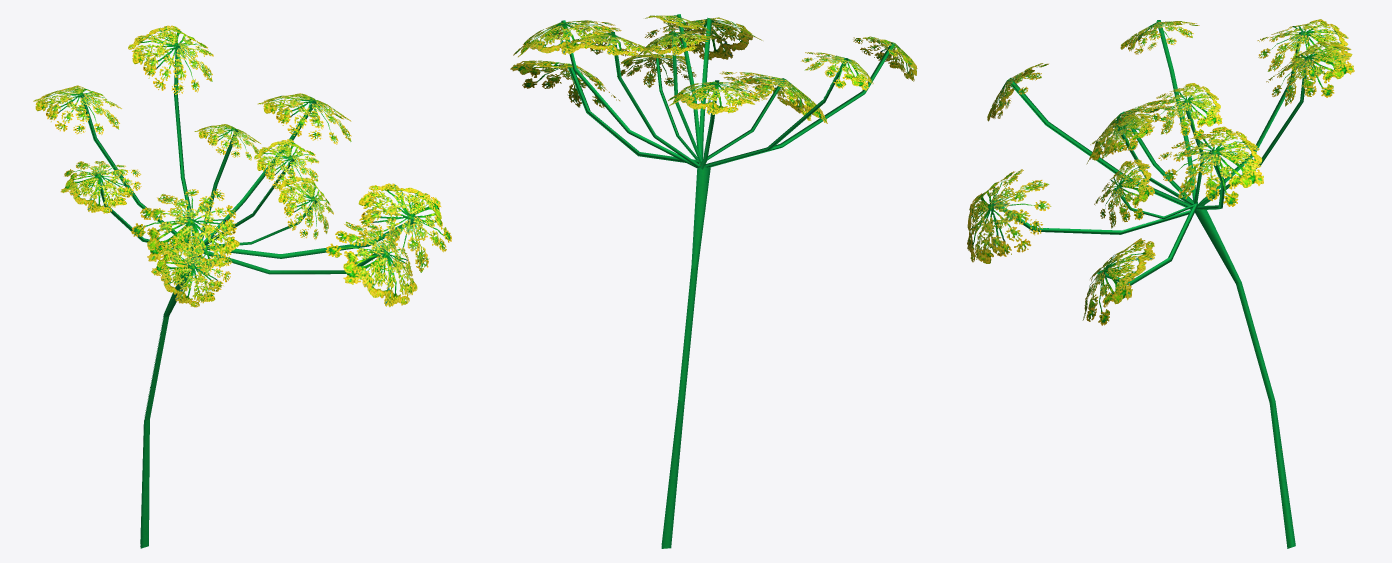
The model's file is Model_Plant_13.fbx.
3 views of the same model, side by side, from view 1: azimuth 30°, elevation 25°; view 2: azimuth 150°, elevation 25°; view 3: azimuth 270°, elevation 25° (orthographic). The views are drawn at different scales.
Parts seen in each view (by area): view 1: Dill_1; view 2: Dill_1; view 3: Dill_1.
Part boxes in pixels (x1=…): Dill_1: x1=33, y1=25, x2=451, y2=548; Dill_1: x1=510, y1=14, x2=917, y2=548; Dill_1: x1=967, y1=19, x2=1354, y2=548.
Bounding box in the file's own units: 52.82 × 64.33 × 47.51.
